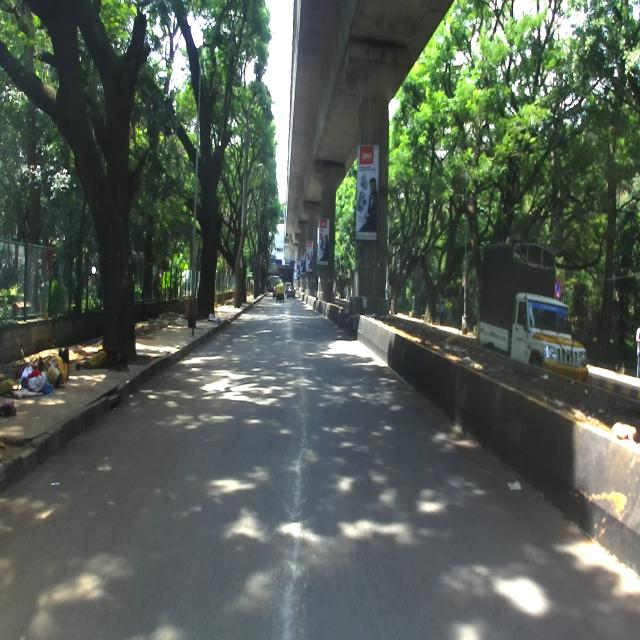tree ahead at: (56, 52, 156, 361), (200, 123, 222, 315)
